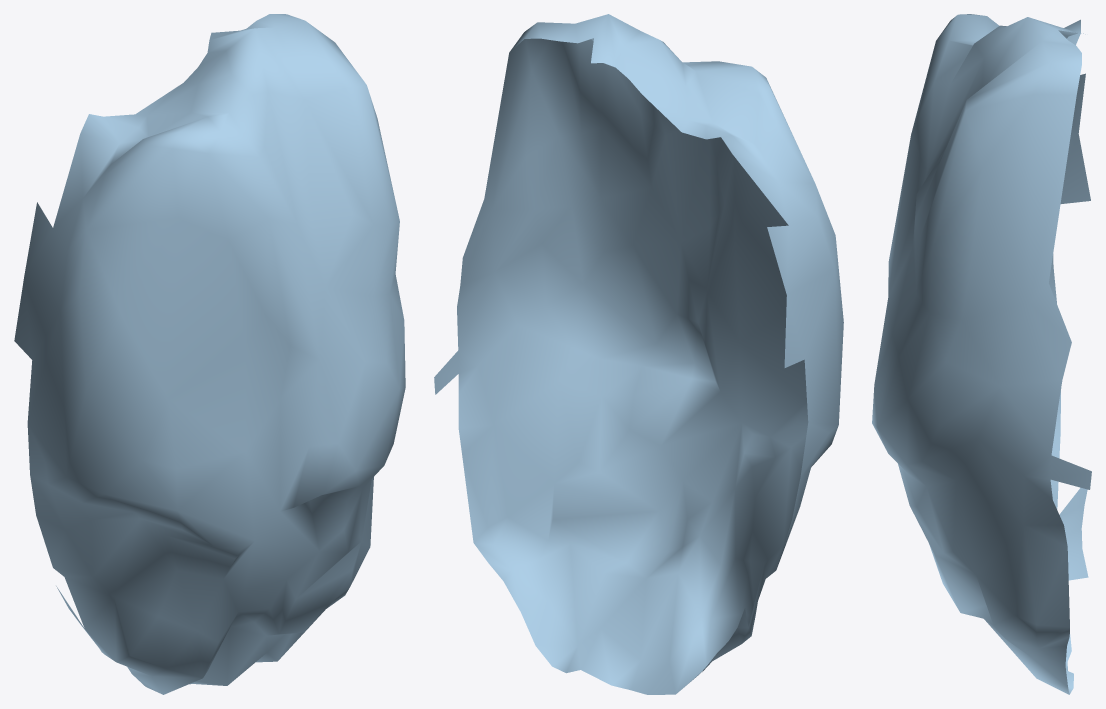
Rendered from RS-4W_ice02RIGHT.fbx.
3 views of the same model, side by side, from view 1: azimuth 30°, elevation 25°; view 2: azimuth 150°, elevation 25°; view 3: azimuth 270°, elevation 25° (orthographic). The views are drawn at different scales.
Visible parts, largest first — view 1: RS-4W_ice02RIGHT.001; view 2: RS-4W_ice02RIGHT.001; view 3: RS-4W_ice02RIGHT.001.
Boxes of the visible parts, x1,y1,x2,y2 form: RS-4W_ice02RIGHT.001: [14, 14, 405, 694]; RS-4W_ice02RIGHT.001: [434, 14, 843, 694]; RS-4W_ice02RIGHT.001: [872, 14, 1091, 694].
Size of the model in its own units: 1010 by 1761 by 528.
